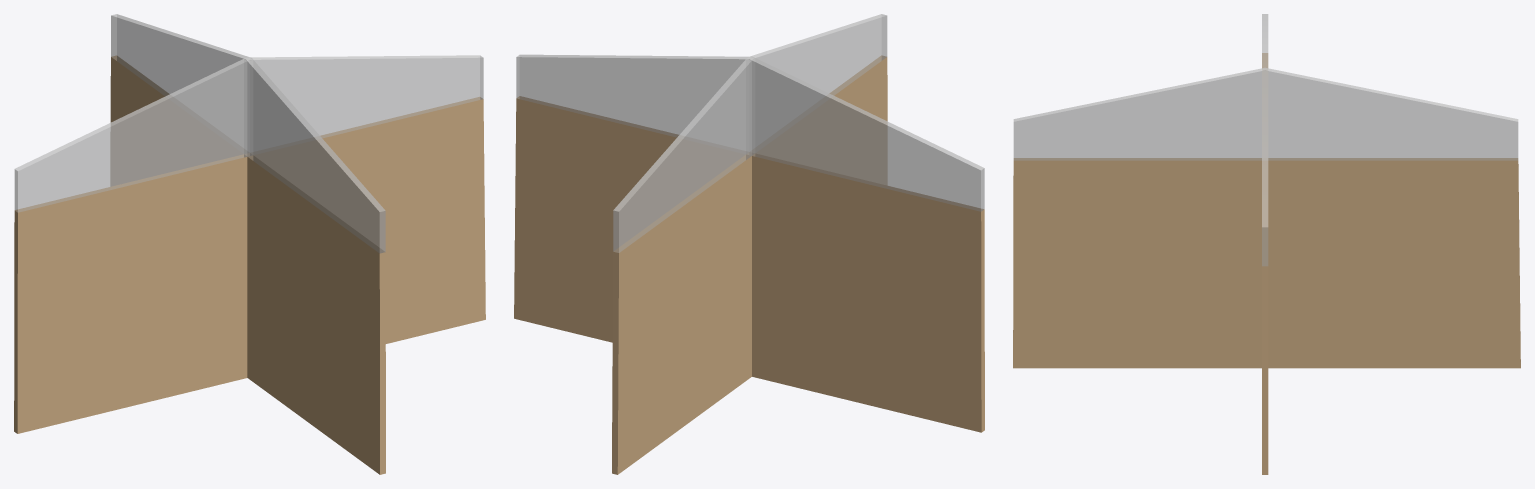
The model's file is Cubicle_2.fbx.
3 views of the same model, side by side, from view 1: azimuth 30°, elevation 25°; view 2: azimuth 150°, elevation 25°; view 3: azimuth 270°, elevation 25° (orthographic). The views are drawn at different scales.
Visible parts, largest first — view 1: cubicle2_walls; view 2: cubicle2_walls; view 3: cubicle2_walls.
Boxes of the visible parts, <box> form: cubicle2_walls: <box>14,14,485,474</box>; cubicle2_walls: <box>514,14,984,474</box>; cubicle2_walls: <box>1013,14,1520,474</box>.
Bounding box in the file's own units: 452 × 293 × 452.
